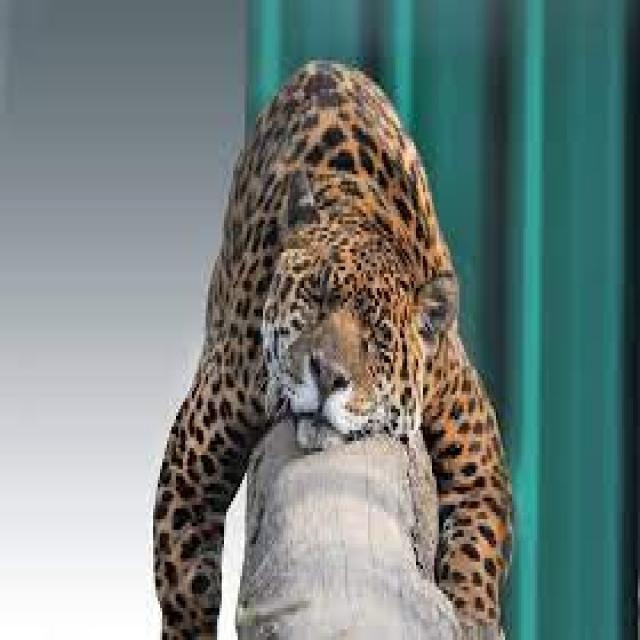Jaguar: (148, 53, 508, 626)
